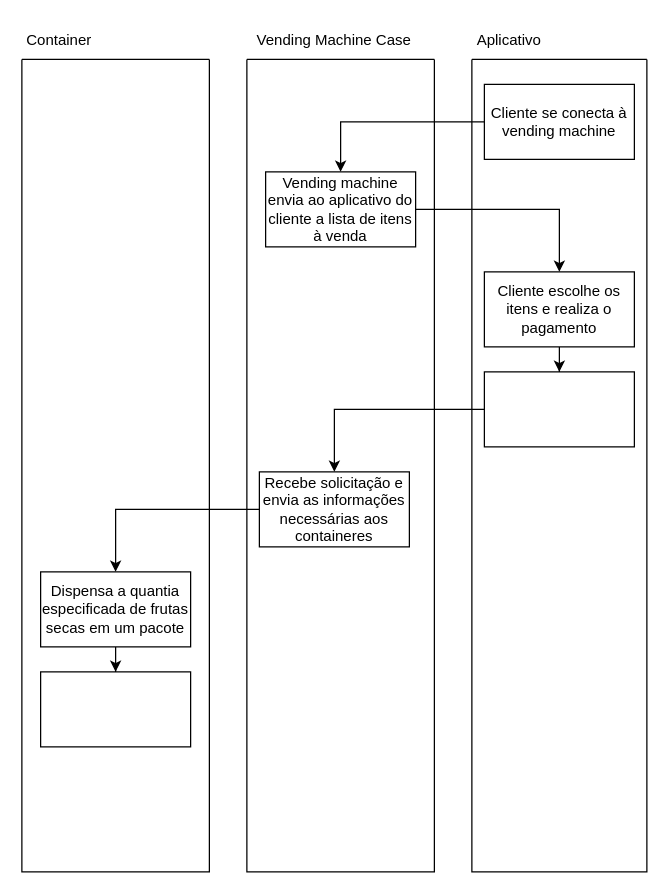
This 669x894 diagram has some shape labels left out. Each missing label, with the centre of its shape:
"O aplicativo solicita os itens à vending machine" belongs at (558,409).
"Sela o pacote e entrega ao cliente" belongs at (115,709).
